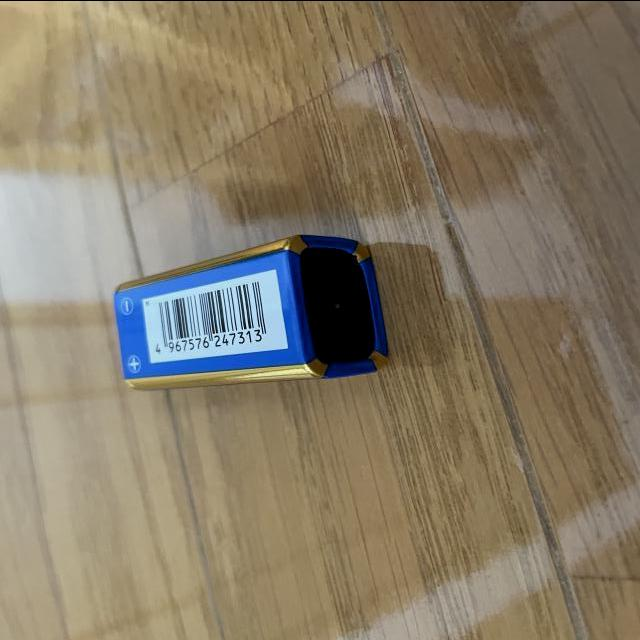9V: (112, 234, 388, 390)
